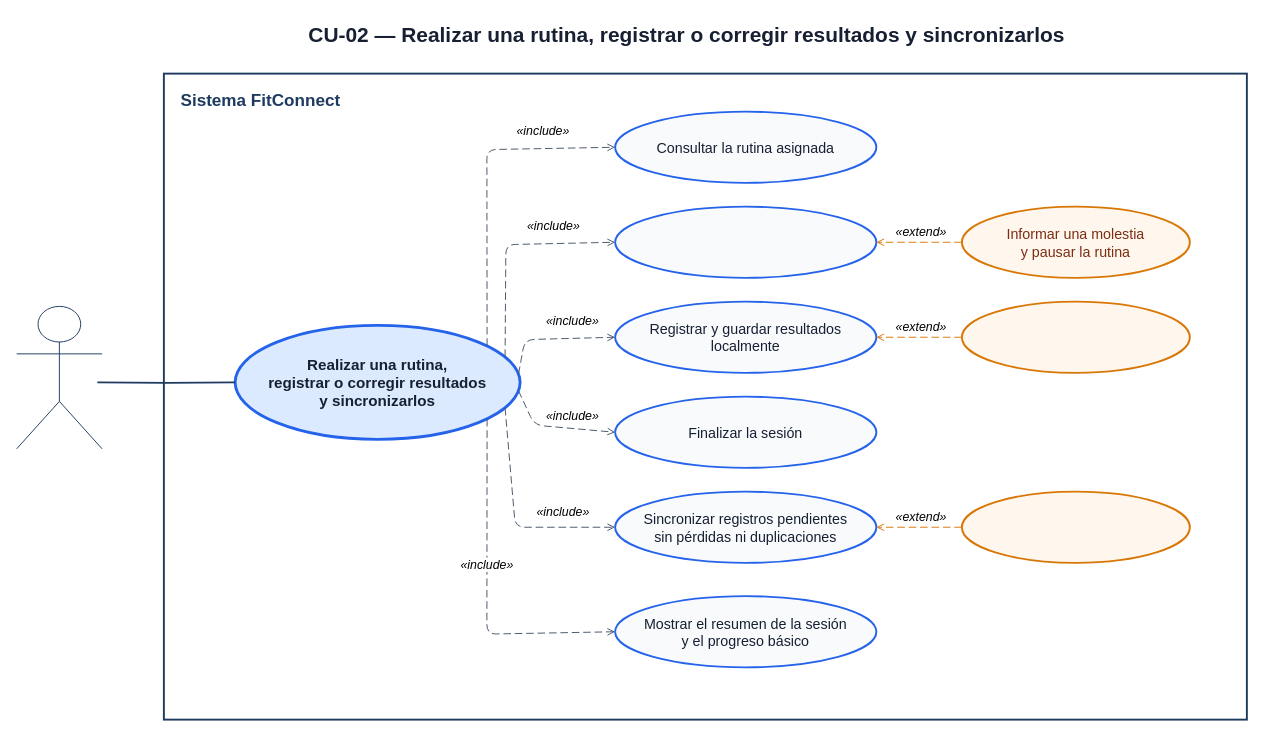
This 1264x736 diagram has some shape labels left out. The shapes that lost their labels are listed below. From the top down, each one's box as (x1, y1, x2, y2) in pixels, then its label:
(614, 205, 877, 278): Realizar ejercicios y utilizar el temporizador
(960, 300, 1190, 373): Corregir un resultado registrado
(16, 305, 102, 449): Usuario
(960, 490, 1190, 563): Reintentar la sincronización o resolver un conflicto
